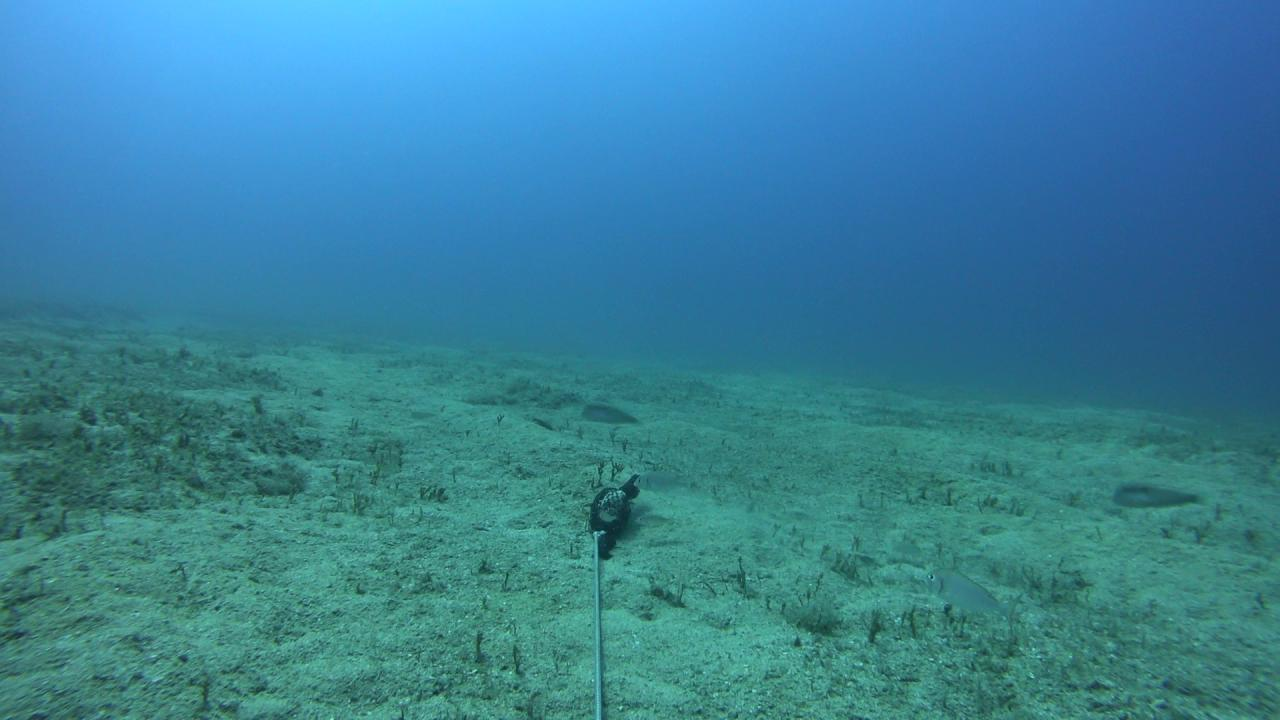pagellus: (921, 566, 1025, 634), (631, 470, 695, 497)
raor: (1109, 479, 1209, 510), (578, 400, 648, 428)
